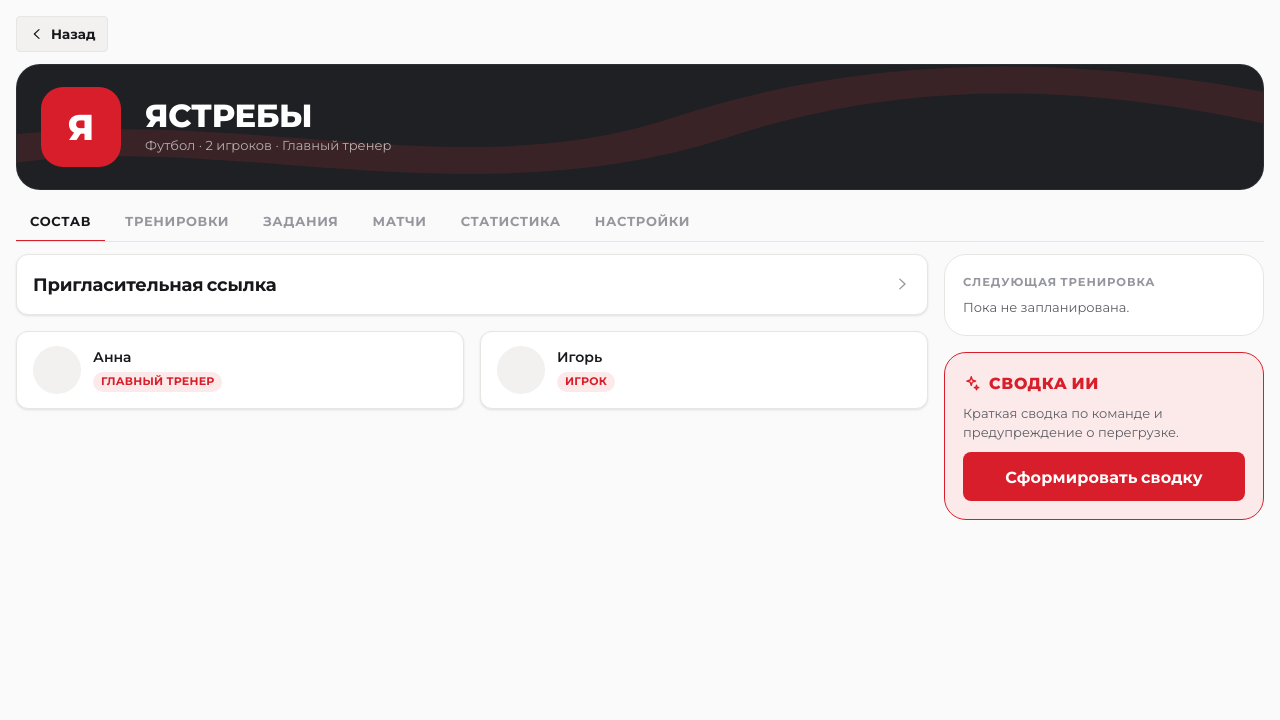
Test: inviting players from the roster › is no longer in the settings tab
Click the button "Настройки".
click(642, 222)  # box left=581, top=202, right=704, bottom=242
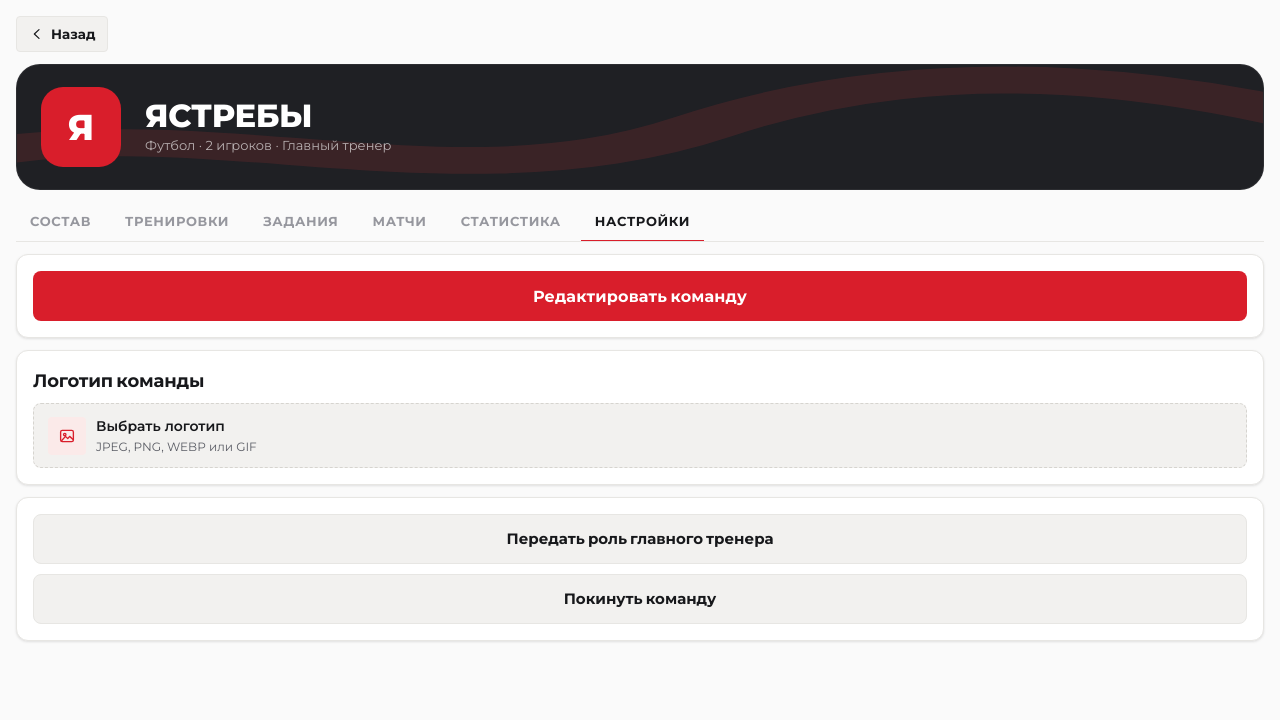
Result: the button "Пригласительная ссылка" is gone
